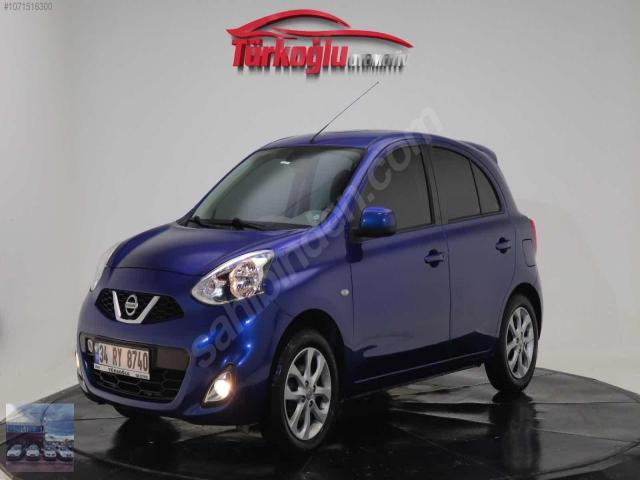plaka: (96, 344, 149, 379)
